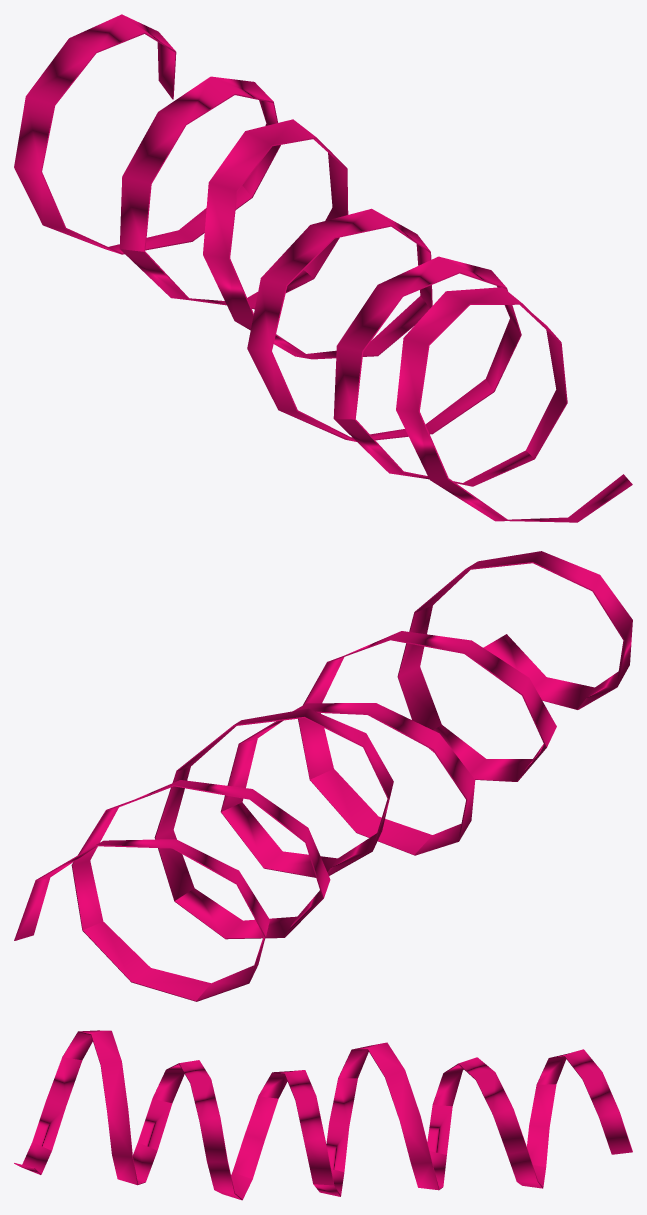
File: Barbwire_01_Lod1.fbx
The picture shows the model from 3 angles, top to bottom: view 1: azimuth 30°, elevation 25°; view 2: azimuth 150°, elevation 25°; view 3: azimuth 270°, elevation 25°; orthographic projection. The views are drawn at different scales.
Visible parts, largest first — view 1: Barbwire_01_Lod1; view 2: Barbwire_01_Lod1; view 3: Barbwire_01_Lod1.
Part boxes in pixels (left/top/right/bottom): Barbwire_01_Lod1: left=14, top=14, right=632, bottom=522; Barbwire_01_Lod1: left=14, top=551, right=632, bottom=1001; Barbwire_01_Lod1: left=14, top=1030, right=632, bottom=1200.
Bounding box in the file's own units: 123 × 118 × 455.
